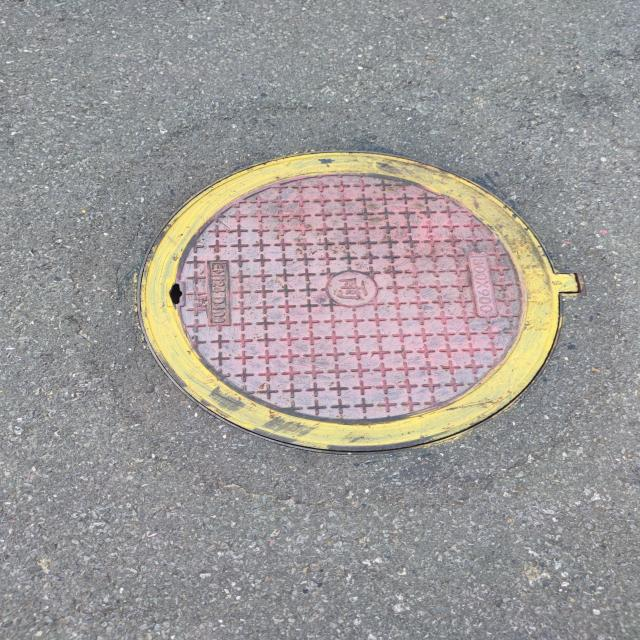Good: (128, 147, 582, 460)
